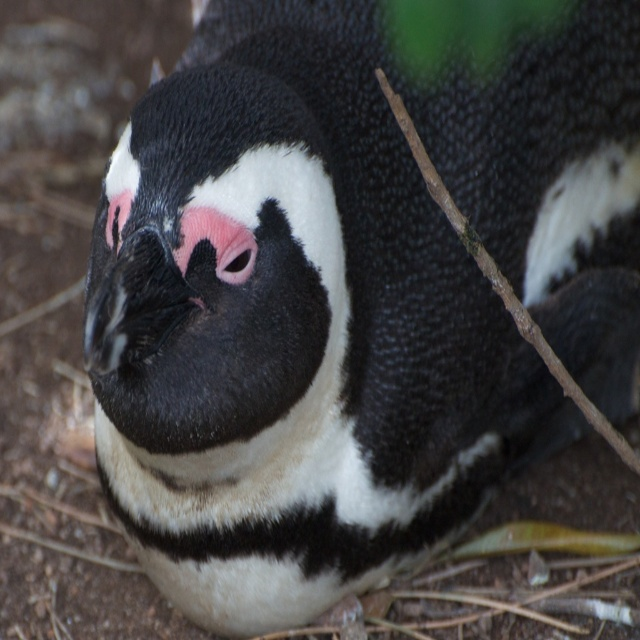Penguin: (81, 52, 576, 640)
